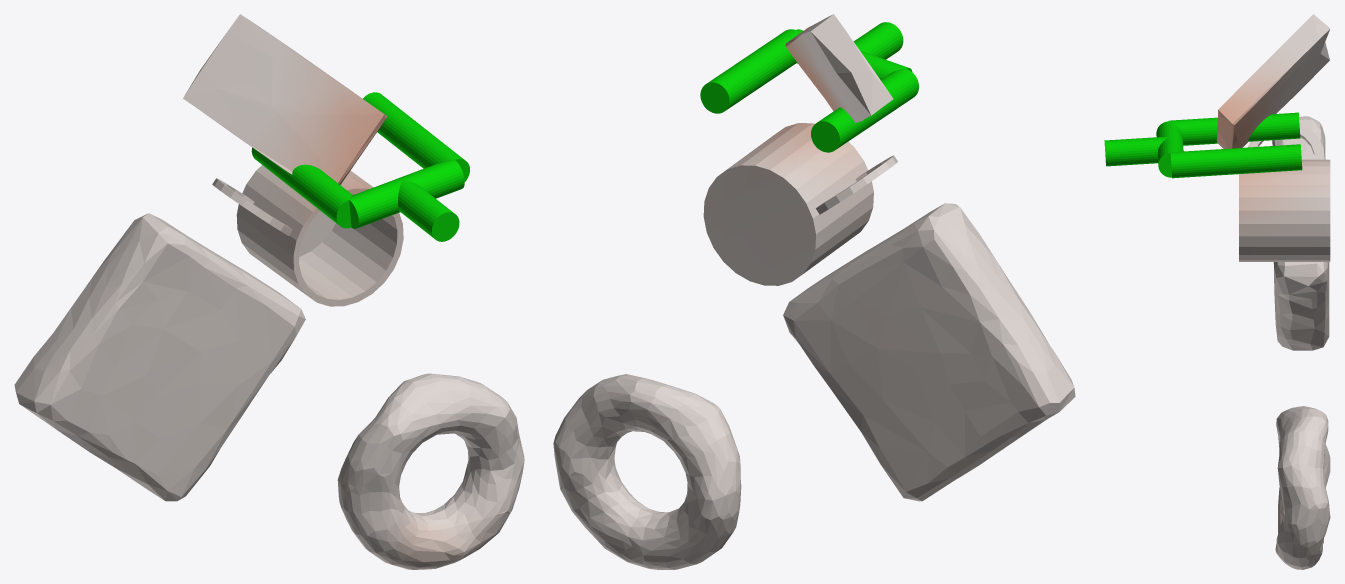
File: round_000_trial_001.obj
3 views of the same model, side by side, from view 1: azimuth 30°, elevation 25°; view 2: azimuth 150°, elevation 25°; view 3: azimuth 270°, elevation 25° (orthographic). The views are drawn at different scales.
Visible parts, largest first — view 1: geometry_0, geometry_1; view 2: geometry_0, geometry_1; view 3: geometry_0, geometry_1.
Part boxes in pixels (x1,y1,x2,y2): geometry_0: [14, 14, 524, 569]; geometry_1: [251, 92, 469, 241]; geometry_0: [553, 14, 1075, 569]; geometry_1: [700, 22, 918, 152]; geometry_0: [1216, 14, 1330, 569]; geometry_1: [1104, 112, 1302, 178].
Bounding box in the file's own units: 0.1766 × 0.2008 × 0.0866.
